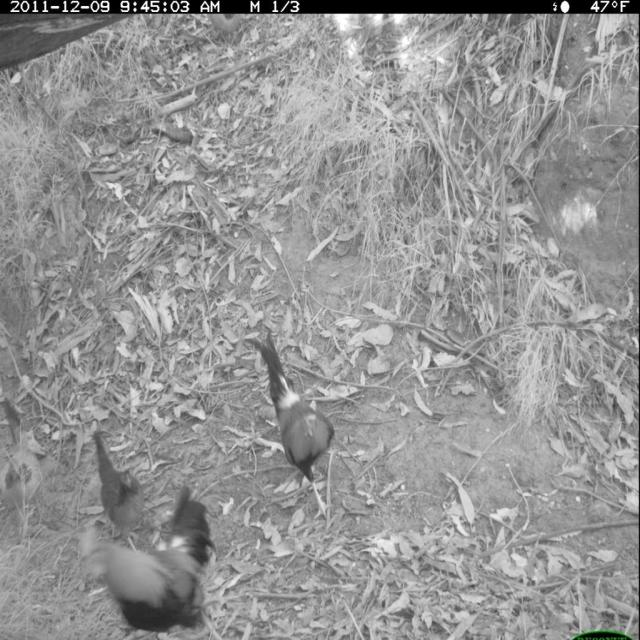bird: (78, 481, 224, 640), (252, 325, 338, 527), (90, 428, 149, 556)
